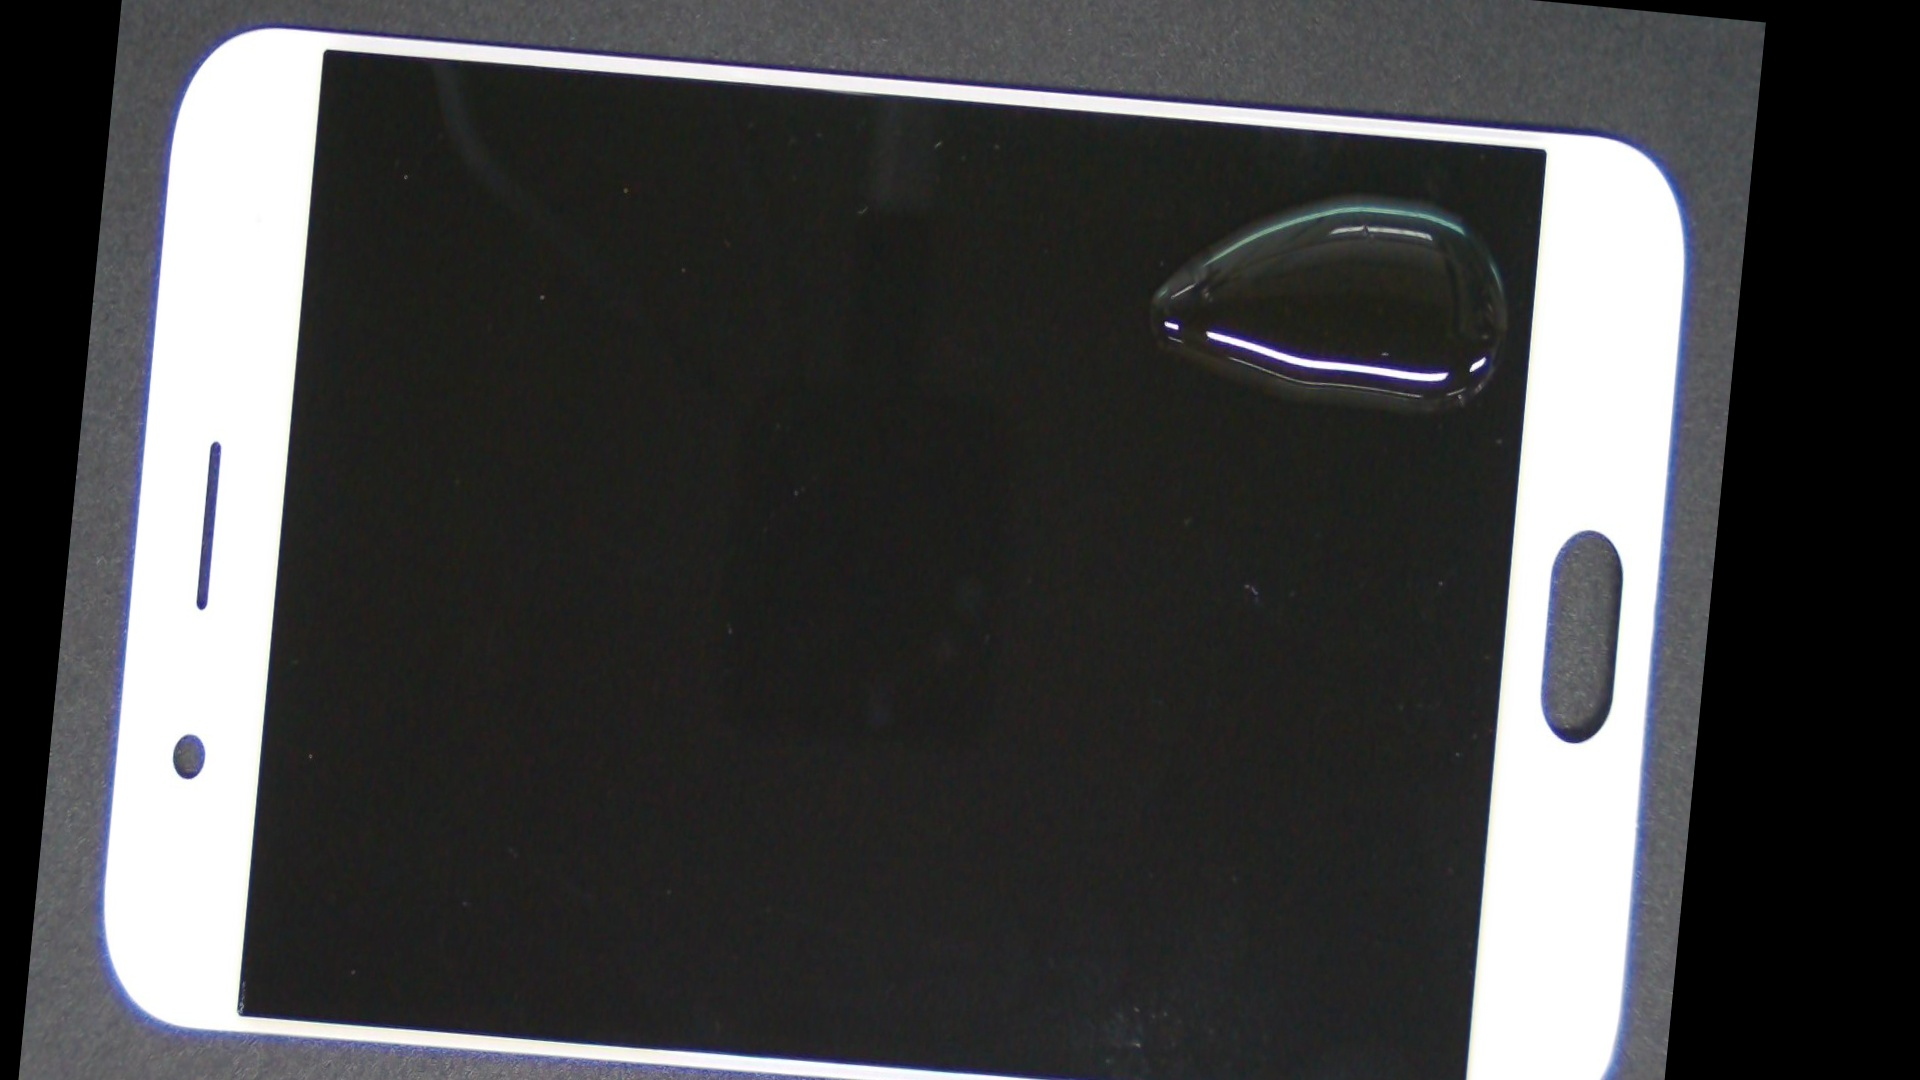oil: (748, 30, 1756, 334)
